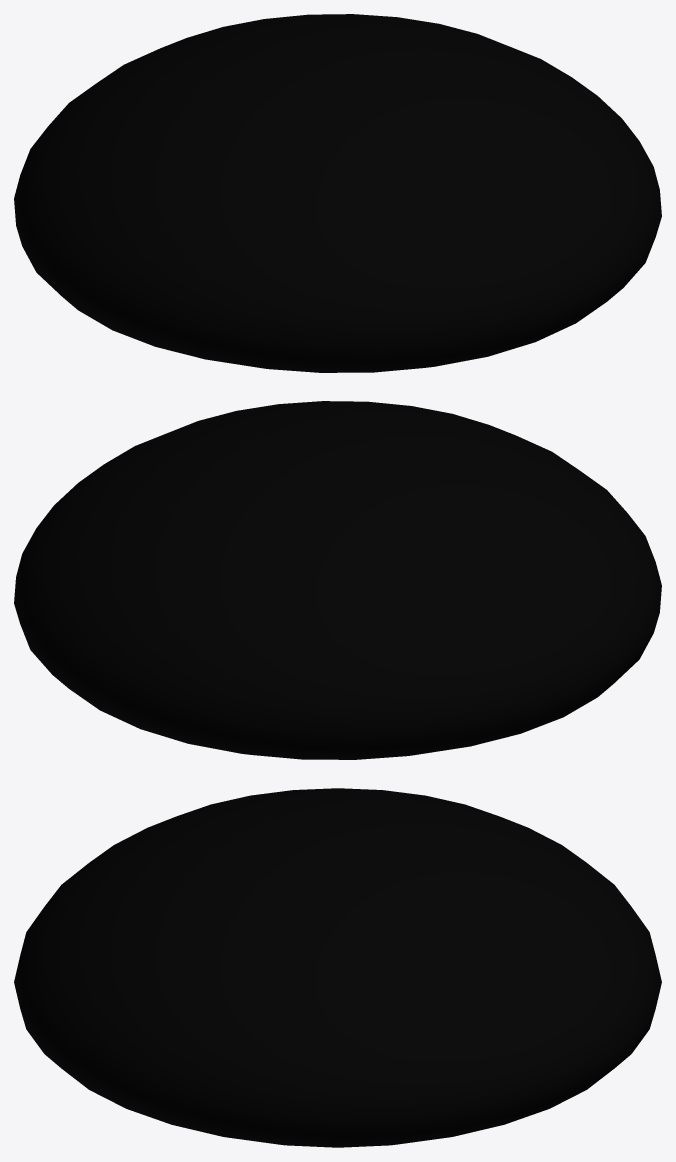
File: BlackPiece.FBX
The picture shows the model from 3 angles, top to bottom: view 1: azimuth 30°, elevation 25°; view 2: azimuth 150°, elevation 25°; view 3: azimuth 270°, elevation 25°; orthographic projection.
Visible parts, largest first — view 1: Obj3d66-644200-51-728; view 2: Obj3d66-644200-51-728; view 3: Obj3d66-644200-51-728.
Boxes of the visible parts, box(x1,y1,x2,y2) form: Obj3d66-644200-51-728: box(14, 14, 661, 372); Obj3d66-644200-51-728: box(14, 401, 661, 759); Obj3d66-644200-51-728: box(14, 788, 661, 1147).
Size of the model in its own units: 2.2 by 0.802 by 2.2.
1 material, 1 textured.
